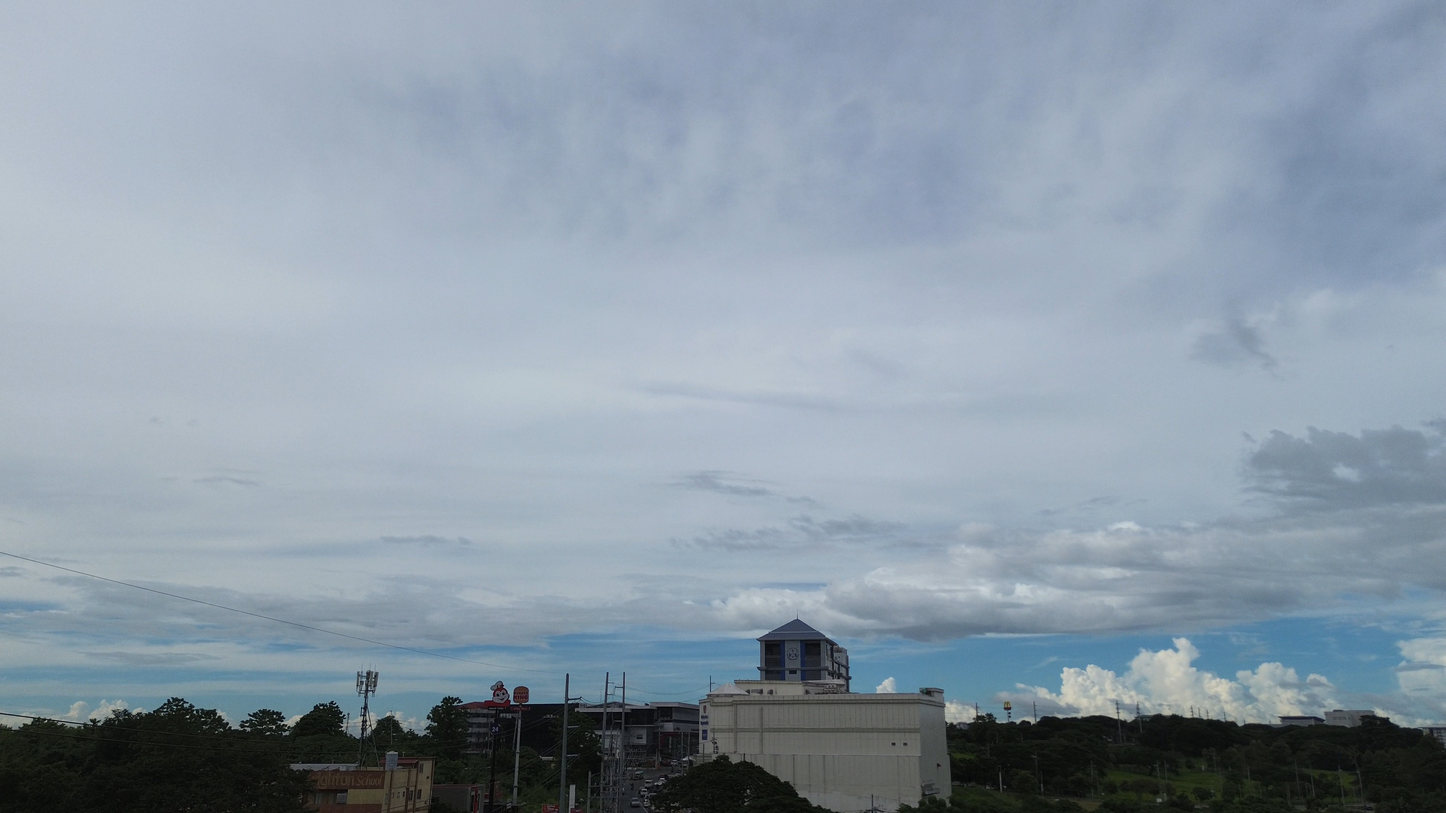car: (630, 797, 641, 807)
